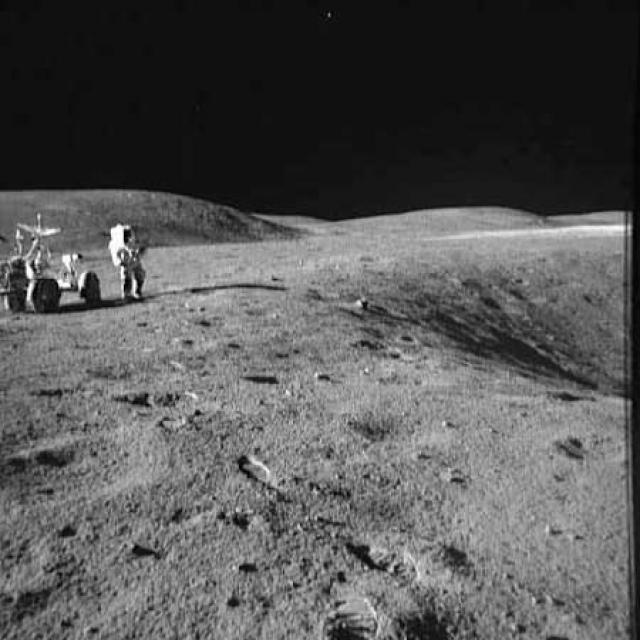crater: (542, 426, 630, 470), (350, 409, 442, 450), (543, 381, 630, 415), (104, 389, 198, 411), (75, 358, 157, 382), (39, 438, 92, 475), (236, 368, 299, 396), (26, 384, 94, 406), (229, 501, 269, 535), (298, 288, 357, 310), (504, 282, 552, 308), (54, 516, 90, 550), (156, 503, 196, 533), (472, 291, 506, 317), (237, 304, 280, 324), (190, 312, 227, 332), (218, 336, 256, 354), (397, 329, 428, 347)
rock: (100, 539, 155, 568), (430, 462, 473, 488), (214, 586, 242, 610), (307, 365, 335, 388), (230, 554, 250, 576)
